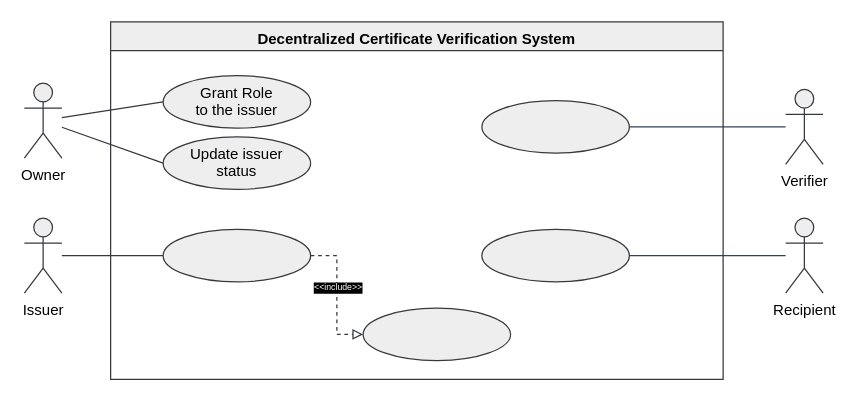
The diagram is 858 pixels wide and 401 high, and some of its shapes have lost their labels. Here are the shapes that lost their labels. From the top down, the box of each, then its label:
(481, 99, 629, 153): Get certificate details
(162, 228, 311, 282): Issue certificate
(481, 228, 629, 282): View Own Certificates
(362, 307, 511, 361): Verify issuer status
